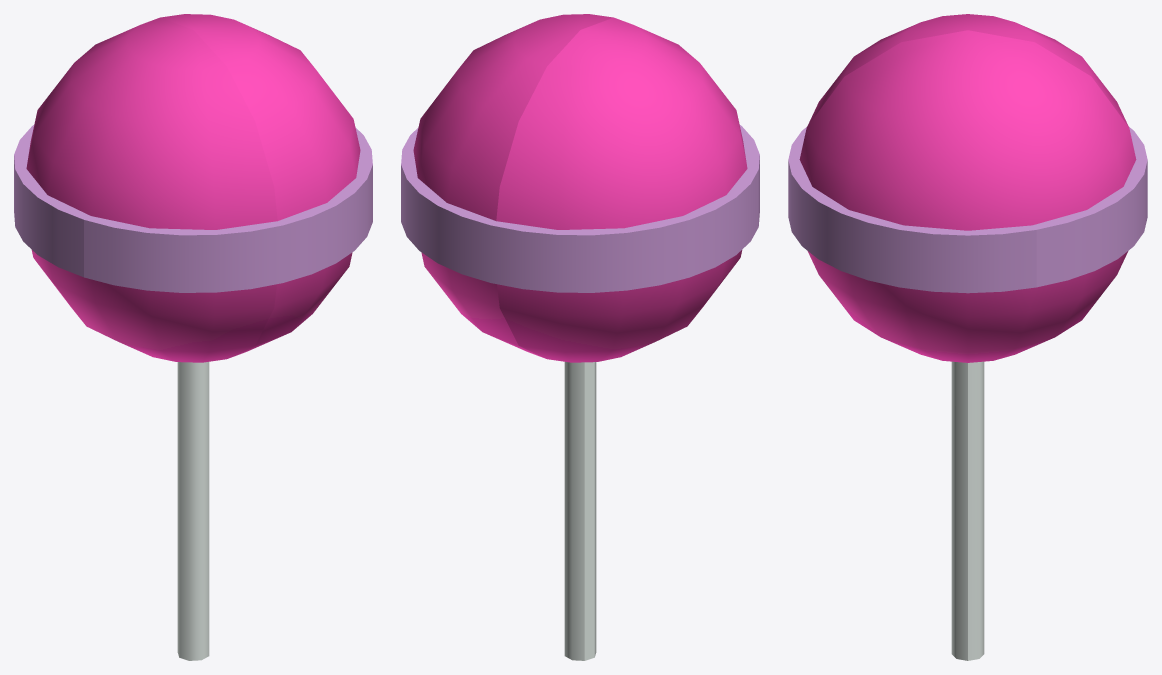
Rendered from Candy.fbx.
3 views of the same model, side by side, from view 1: azimuth 30°, elevation 25°; view 2: azimuth 150°, elevation 25°; view 3: azimuth 270°, elevation 25° (orthographic).
Visible parts, largest first — view 1: candy:candy_0; view 2: candy:candy_0; view 3: candy:candy_0.
Boxes of the visible parts, bbox=[...] form: candy:candy_0: bbox=[14, 14, 372, 660]; candy:candy_0: bbox=[401, 14, 759, 660]; candy:candy_0: bbox=[788, 14, 1147, 660].
Bounding box in the file's own units: 0.5226 × 1 × 0.5226.
